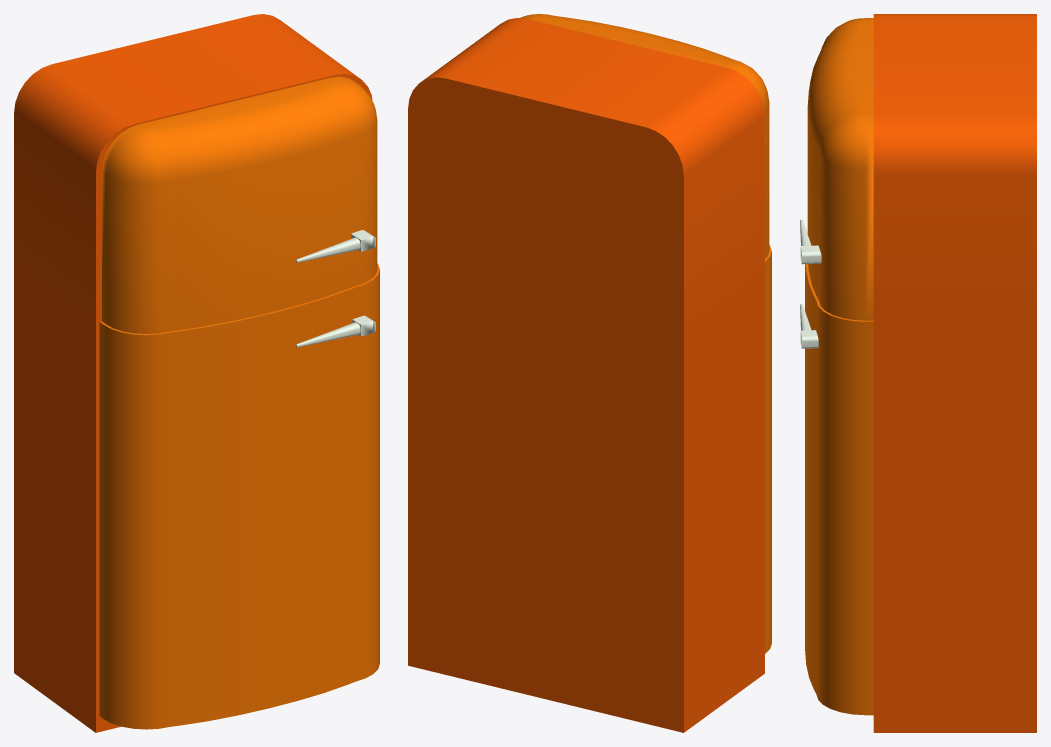
File: Fridge.fbx
3 views of the same model, side by side, from view 1: azimuth 30°, elevation 25°; view 2: azimuth 150°, elevation 25°; view 3: azimuth 270°, elevation 25° (orthographic).
Parts seen in each view (by area): view 1: Fridge; view 2: Fridge; view 3: Fridge.
Part boxes in pixels (bbox=[...]): Fridge: bbox=[14, 14, 379, 732]; Fridge: bbox=[408, 14, 771, 732]; Fridge: bbox=[800, 14, 1036, 732].
Size of the model in its own units: 98.05 by 203 by 72.72.
1 material, 1 textured.
